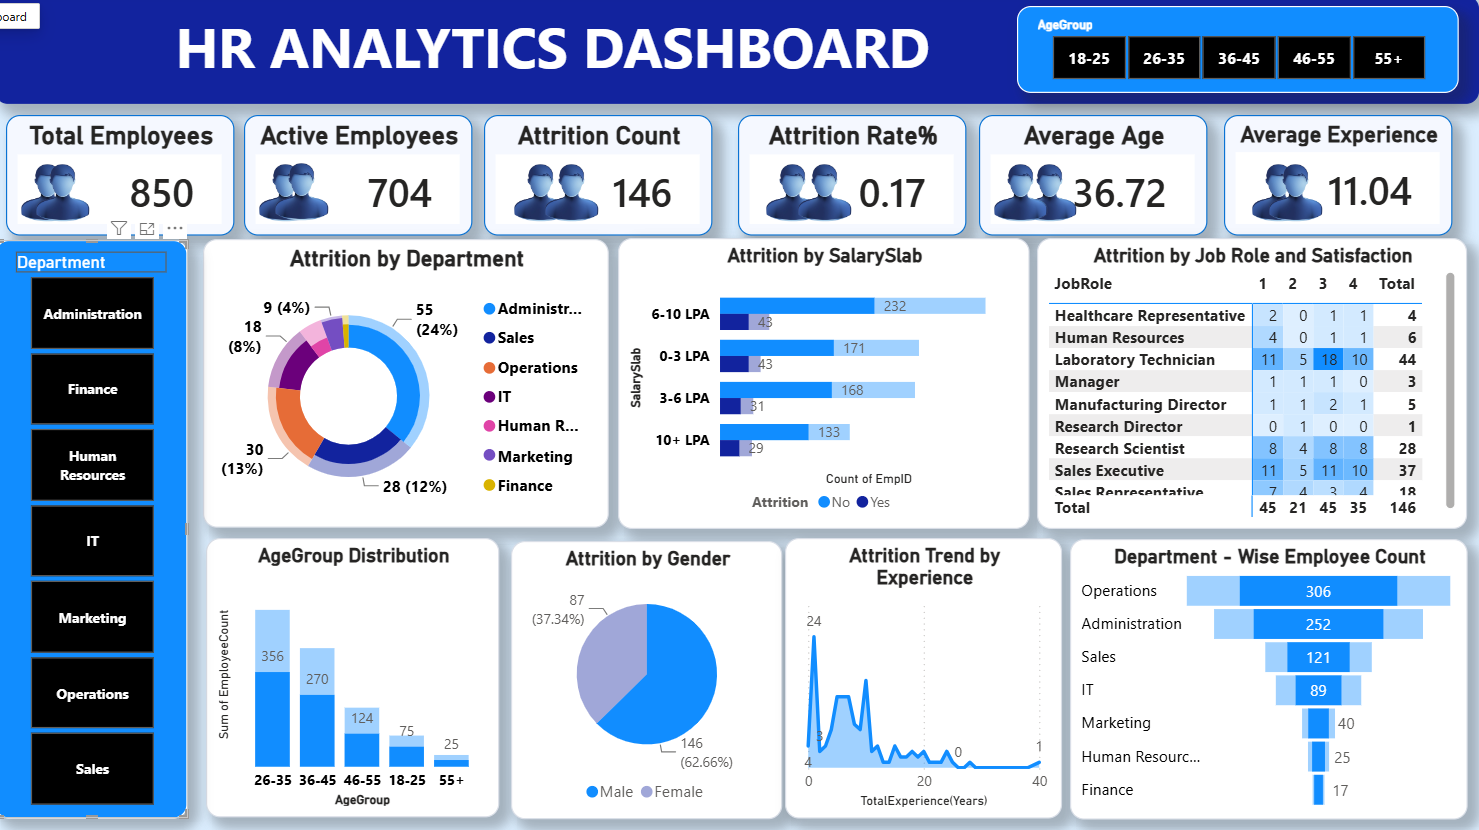

The page's visual inventory and layout, read from the dashboard file:
{"tool":"powerbi","page":{"name":"Page 1","canvas":[1280,720],"ordinal":0},"visuals":[{"type":"textbox","box":[0,0,1280,93.4],"z":0},{"type":"cardVisual","title":"Total Employees","fields":{"Data":["CountNonNull(HR_Analytics-4.EmpID)"]},"box":[9.7,102.4,196.9,104.3],"z":1000},{"type":"cardVisual","title":"Active Employees","fields":{"Data":["CountNonNull(HR_Analytics-4.EmployeeCount)"]},"box":[214.5,102.4,196.9,104.3],"z":2000},{"type":"cardVisual","title":"Attrition Count","fields":{"Data":["Sum(HR_Analytics-4.AttritionCount)"]},"box":[422.1,102.4,196.9,104.3],"z":3000},{"type":"cardVisual","title":"Attrition Rate%","fields":{"Data":["HR_Analytics-4.Attrition Rate %"]},"box":[640.5,102.4,196.9,104.3],"z":4000},{"type":"cardVisual","title":"Average Age","fields":{"Data":["Avg(HR_Analytics-4.Age)"]},"box":[849.1,102.4,196.9,104.3],"z":5000},{"type":"cardVisual","title":"Average Experience","fields":{"Data":["Avg(HR_Analytics-4.TotalExperience(Years))"]},"box":[1059.7,102.4,196.9,104.3],"z":6000},{"type":"image","box":[9.7,120.9,72.1,97.5],"z":7000},{"type":"image","box":[1071.4,120.9,72.1,97.5],"z":8000},{"type":"image","box":[873.5,120.9,72.1,97.5],"z":9000},{"type":"image","box":[652.2,120.9,72.1,97.5],"z":10000},{"type":"image","box":[434.8,120.9,72.1,97.5],"z":11000},{"type":"image","box":[214.5,120.9,72.1,97.5],"z":12000},{"type":"image","box":[461.1,120.9,72.1,97.5],"z":13000},{"type":"image","box":[228.6,119.6,72,98.2],"z":14000},{"type":"image","box":[679.5,120.9,72.1,97.5],"z":15000},{"type":"image","box":[22.4,120.9,72.1,97.5],"z":16000},{"type":"image","box":[849.1,120.9,72.1,97.5],"z":17000},{"type":"image","box":[1086,120.9,72.1,97.5],"z":18000},{"type":"donutChart","title":"Attrition by Department","fields":{"Category":["HR_Analytics-4.Department"],"Y":["Sum(HR_Analytics-4.AttritionCount)"]},"box":[179,210,350,249],"z":19000},{"type":"clusteredBarChart","title":"Attrition by SalarySlab","fields":{"Category":["HR_Analytics-4.SalarySlab"],"Y":["CountNonNull(HR_Analytics-4.EmpID)"],"Series":["HR_Analytics-4.Attrition"]},"box":[537,209,355,251],"z":20000},{"type":"pivotTable","title":"Attrition by Job Role and Satisfaction","fields":{"Rows":["HR_Analytics-4.JobRole"],"Values":["Sum(HR_Analytics-4.AttritionCount)"],"Columns":["HR_Analytics-4.JobSatisfaction"]},"box":[899,209,371,251],"z":21000},{"type":"columnChart","title":"AgeGroup Distribution","fields":{"Category":["HR_Analytics-4.AgeGroup"],"Y":["Sum(HR_Analytics-4.EmployeeCount)"]},"box":[182.2,467.7,253,241.2],"z":22000},{"type":"pieChart","title":"Attrition by Gender","fields":{"Category":["HR_Analytics-4.Gender"],"Y":["Sum(HR_Analytics-4.AttritionCount)"]},"box":[445,469.7,234.3,240.2],"z":23000},{"type":"areaChart","title":" Attrition Trend by Experience","fields":{"Category":["HR_Analytics-4.TotalExperience(Years)"],"Y2":["Sum(HR_Analytics-4.AttritionCount)"]},"box":[681.4,467.7,239.3,242.2],"z":24000},{"type":"funnel","title":"Department - Wise Employee Count","fields":{"Category":["HR_Analytics-4.Department"],"Y":["CountNonNull(HR_Analytics-4.EmpID)"]},"box":[927,468,343,242],"z":25000},{"type":"slicer","fields":{"Values":["HR_Analytics-4.Department"]},"box":[0,210.1,166.3,499],"z":26000},{"type":"slicer","fields":{"Values":["HR_Analytics-4.AgeGroup"]},"box":[881.2,8.8,381.3,74.9],"z":27000}]}

Visuals, with their boxes on the page's 1280x720 design canvas (x1, y1, x2, y2). These are canvas units, not pixel positions in the 1479x830 screenshot, which may show the page scaled, cropped or inside an application window:
textbox: x1=0, y1=0, x2=1280, y2=93
"Total Employees" cardVisual: x1=10, y1=102, x2=207, y2=207
"Active Employees" cardVisual: x1=214, y1=102, x2=411, y2=207
"Attrition Count" cardVisual: x1=422, y1=102, x2=619, y2=207
"Attrition Rate%" cardVisual: x1=640, y1=102, x2=837, y2=207
"Average Age" cardVisual: x1=849, y1=102, x2=1046, y2=207
"Average Experience" cardVisual: x1=1060, y1=102, x2=1257, y2=207
image: x1=10, y1=121, x2=82, y2=218
image: x1=1071, y1=121, x2=1144, y2=218
image: x1=874, y1=121, x2=946, y2=218
image: x1=652, y1=121, x2=724, y2=218
image: x1=435, y1=121, x2=507, y2=218
image: x1=214, y1=121, x2=287, y2=218
image: x1=461, y1=121, x2=533, y2=218
image: x1=229, y1=120, x2=301, y2=218
image: x1=680, y1=121, x2=752, y2=218
image: x1=22, y1=121, x2=94, y2=218
image: x1=849, y1=121, x2=921, y2=218
image: x1=1086, y1=121, x2=1158, y2=218
"Attrition by Department" donutChart: x1=179, y1=210, x2=529, y2=459
"Attrition by SalarySlab" clusteredBarChart: x1=537, y1=209, x2=892, y2=460
"Attrition by Job Role and Satisfaction" pivotTable: x1=899, y1=209, x2=1270, y2=460
"AgeGroup Distribution" columnChart: x1=182, y1=468, x2=435, y2=709
"Attrition by Gender" pieChart: x1=445, y1=470, x2=679, y2=710
" Attrition Trend by Experience" areaChart: x1=681, y1=468, x2=921, y2=710
"Department - Wise Employee Count" funnel: x1=927, y1=468, x2=1270, y2=710
slicer - HR_Analytics-4.Department: x1=0, y1=210, x2=166, y2=709
slicer - HR_Analytics-4.AgeGroup: x1=881, y1=9, x2=1262, y2=84
